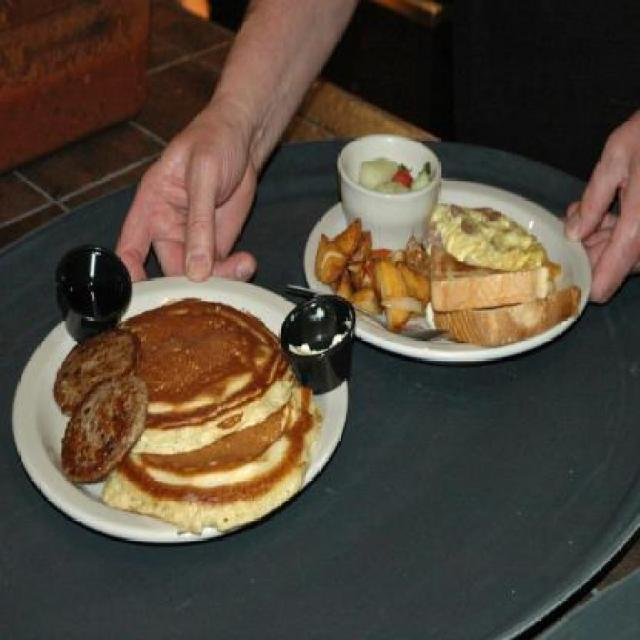french toast: (430, 251, 581, 347)
omelette: (434, 199, 544, 270)
pancakes: (124, 298, 316, 542)
